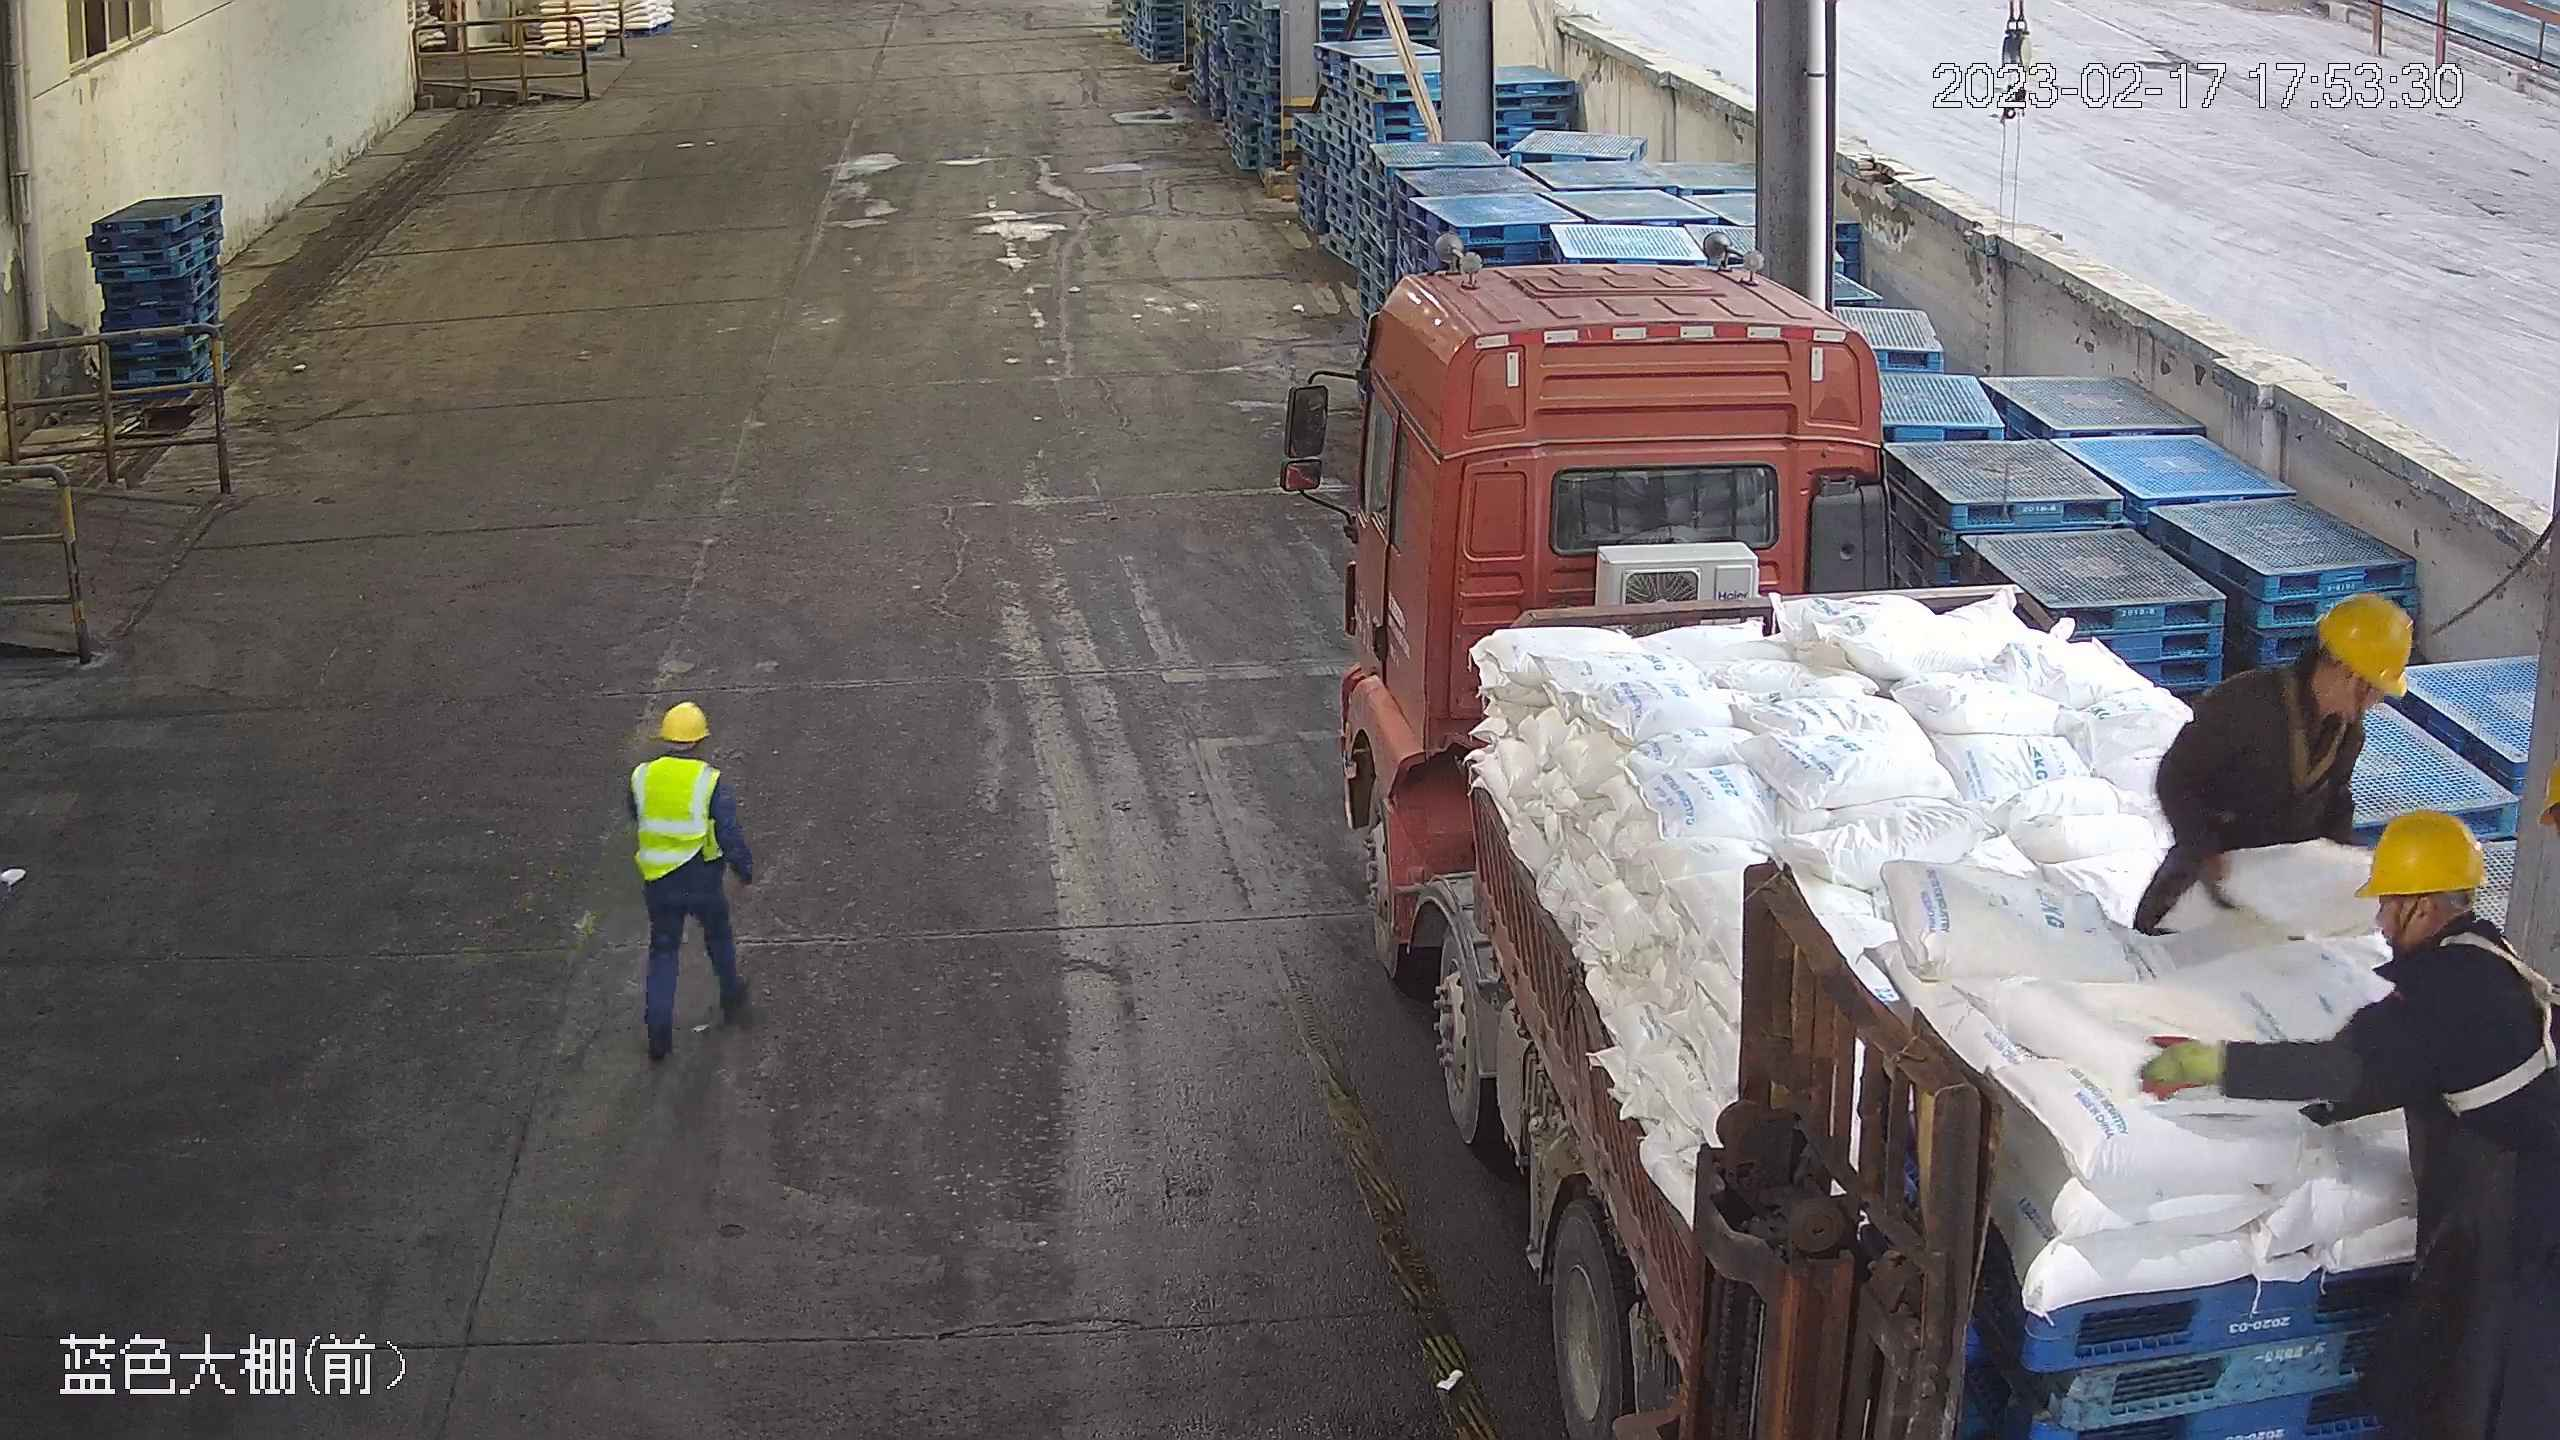belt: (2411, 916, 2560, 1112), (2261, 663, 2356, 792)
head: (2346, 804, 2545, 1034), (2218, 592, 2415, 745), (626, 699, 735, 813)
helmet: (2355, 805, 2491, 902), (2315, 589, 2413, 695), (656, 699, 711, 744)
people: (2133, 802, 2559, 1438), (2130, 589, 2415, 941), (627, 697, 761, 1060)
truck: (1275, 225, 2559, 1440)
